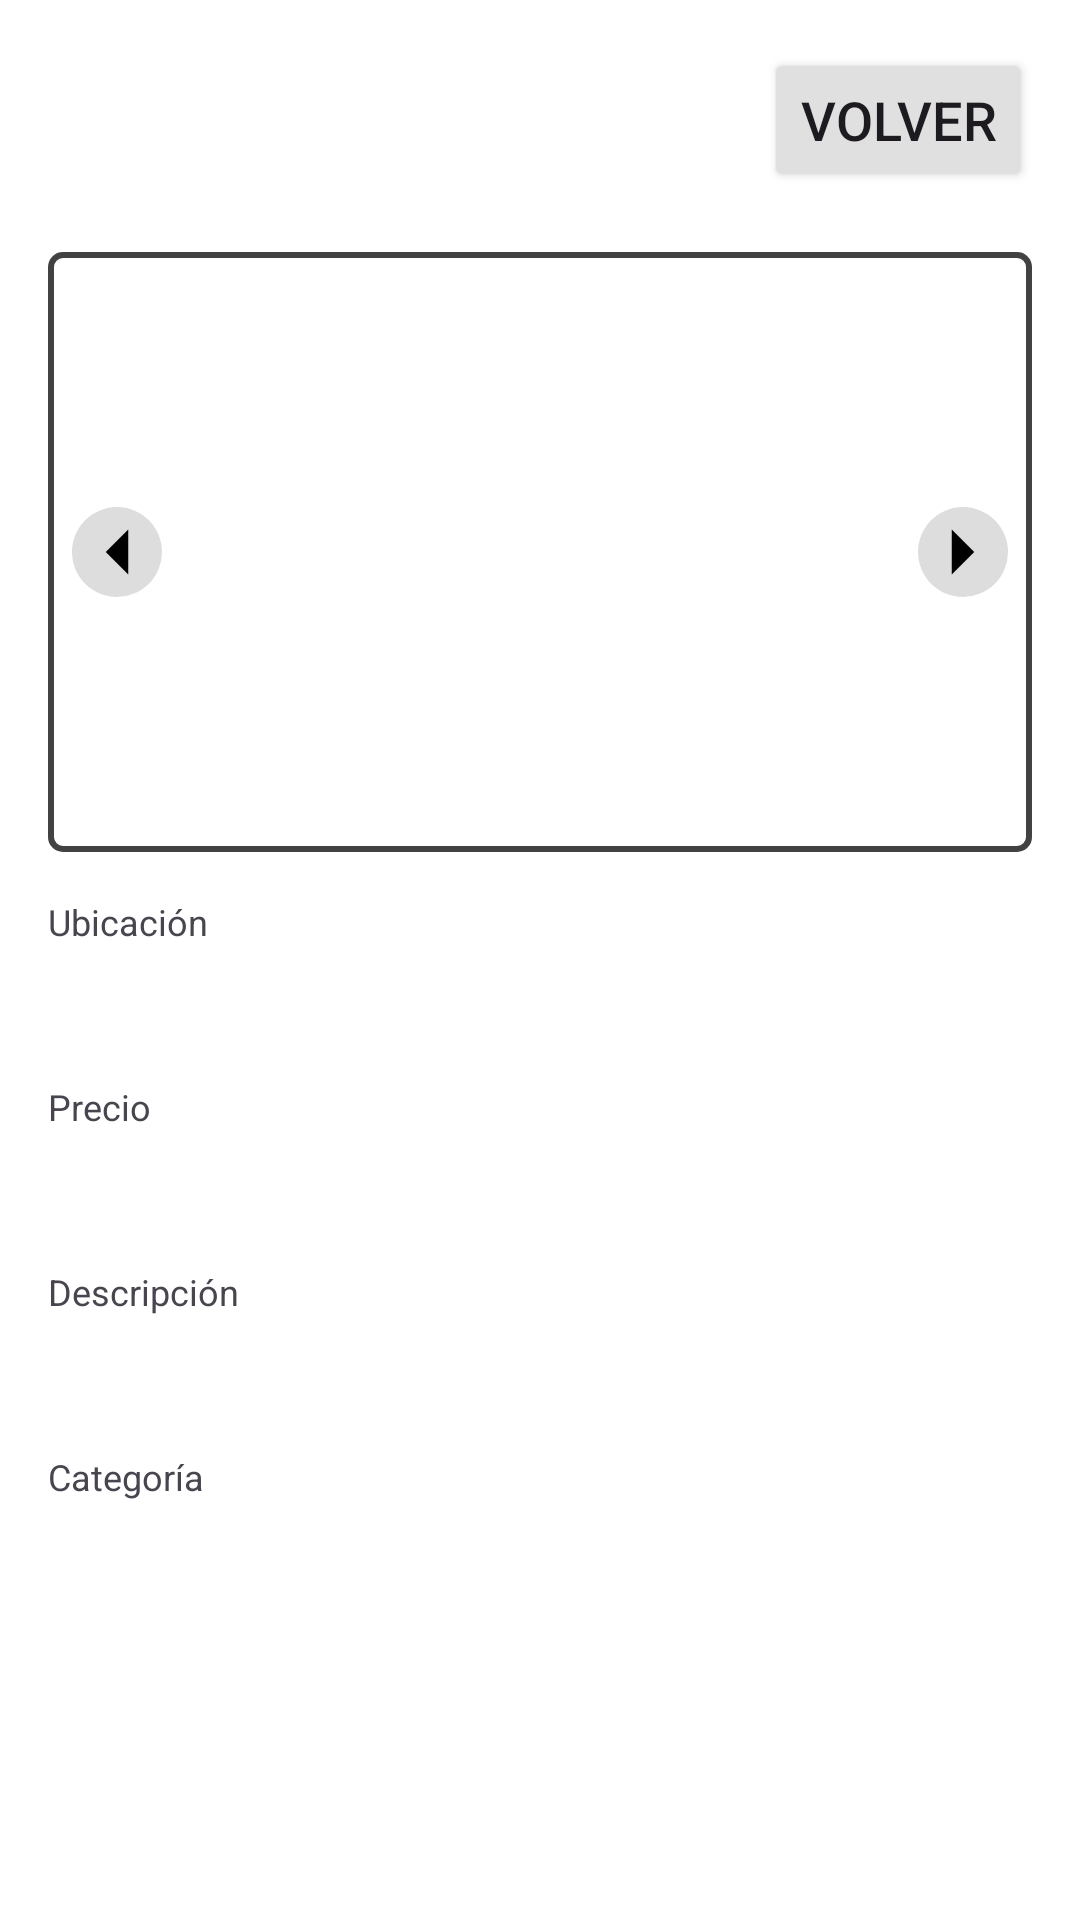

Screen size 1080*1920. Icon name, then its center in pixels as (x=x, y=y):
flecha derecha: (x=963, y=552)
flecha izquierda: (x=117, y=552)
